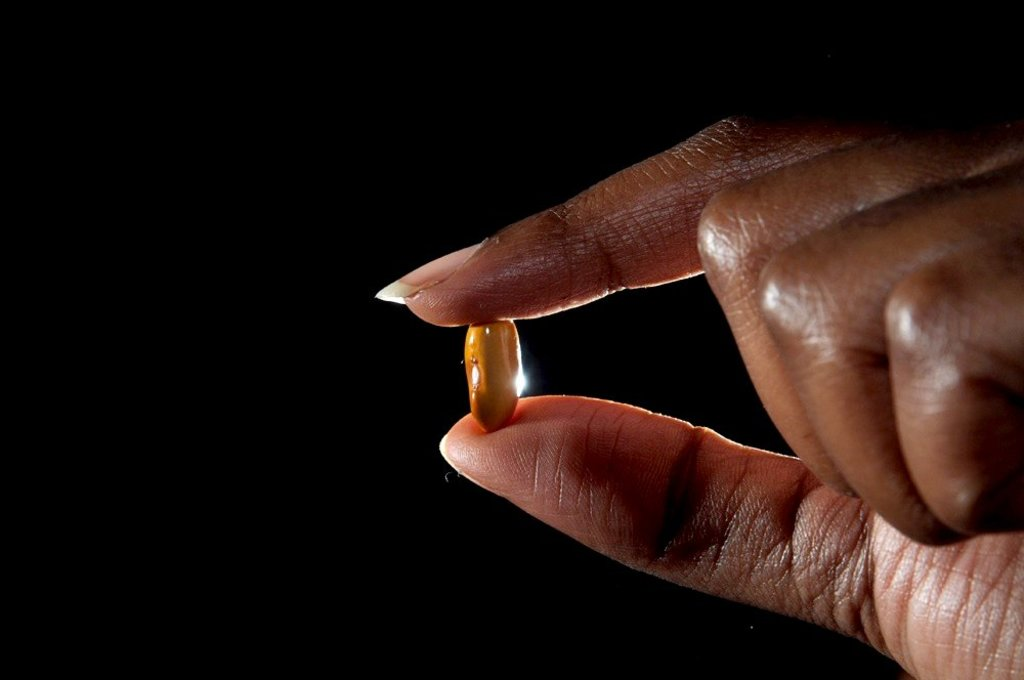Human_hand: (382, 51, 1024, 629)
